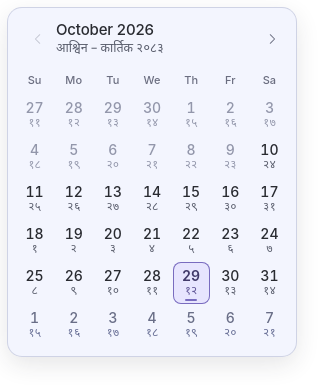
Scenario: minDate / maxDate / isDateDisabled › navigation stops at the months containing the bounds
The image size is (320, 385).
Expected: the button named "Previous month" is disabled, left=24, top=25, right=52, bottom=53
Step 1. Click the button named "Next month" → x=272, y=39, box left=258, top=25, right=286, bottom=53
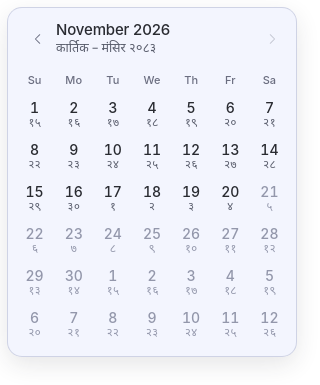
Expected: the button with class "_patro_header_title" reads "November 2026", left=50, top=18, right=176, bottom=42
